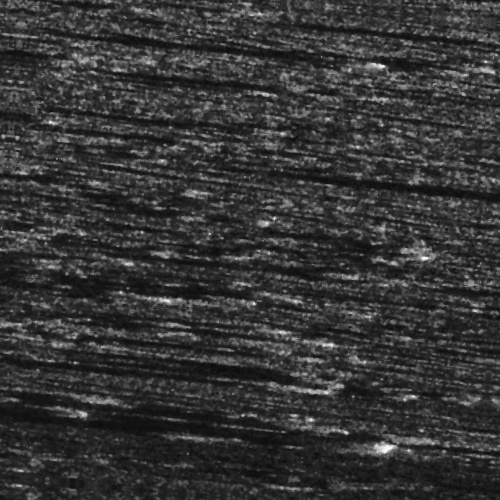object: (263, 412, 378, 427), (278, 368, 331, 393), (262, 355, 325, 372), (295, 365, 358, 380), (355, 428, 428, 439), (46, 407, 129, 416), (56, 421, 119, 432), (268, 476, 331, 481)
shadow: (0, 368, 305, 393), (0, 412, 320, 427), (0, 428, 392, 439), (76, 365, 326, 380), (104, 355, 294, 372), (0, 407, 87, 416), (21, 421, 87, 432), (170, 476, 299, 481)
